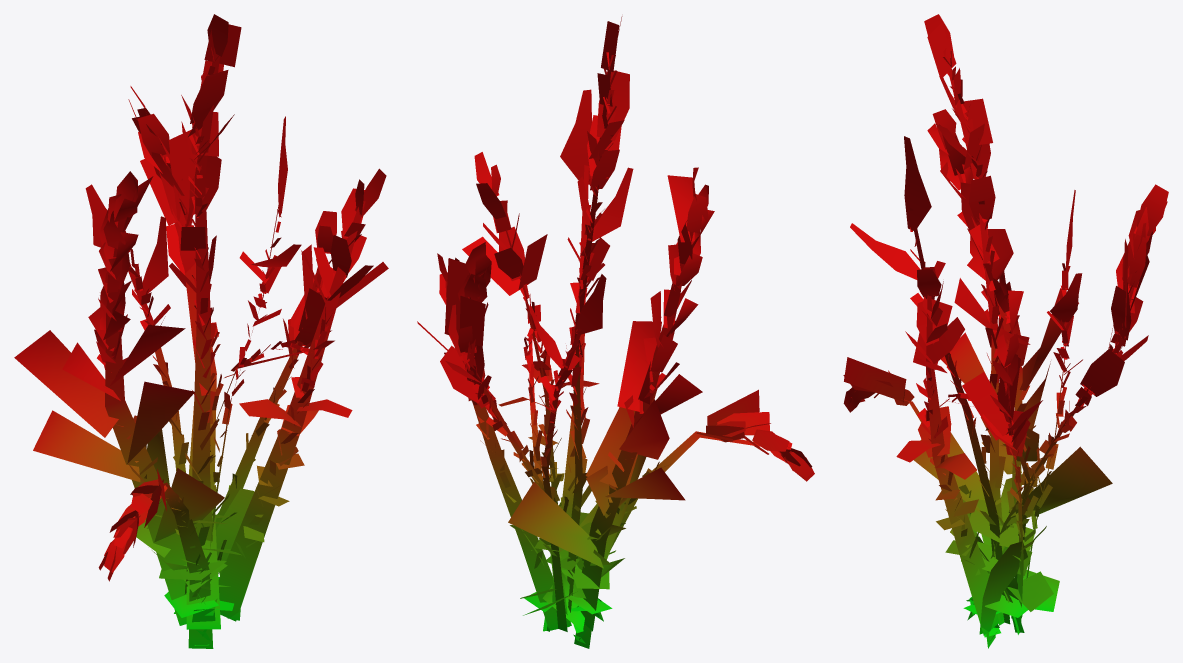
Rendered from Myricaria_LOD2_Var2_tfbldaor.fbx.
3 renders of one model, left to right at view 1: azimuth 30°, elevation 25°; view 2: azimuth 150°, elevation 25°; view 3: azimuth 270°, elevation 25°, orthographic. The views are drawn at different scales.
Visible parts, largest first — view 1: _221a_Var2_LOD2; view 2: _221a_Var2_LOD2; view 3: _221a_Var2_LOD2.
Part boxes in pixels (x1,y1,x2,y2): _221a_Var2_LOD2: (14,14,388,648); _221a_Var2_LOD2: (417,16,814,648); _221a_Var2_LOD2: (843,14,1168,648).
Size of the model in its own units: 50.65 by 94.84 by 44.92.
